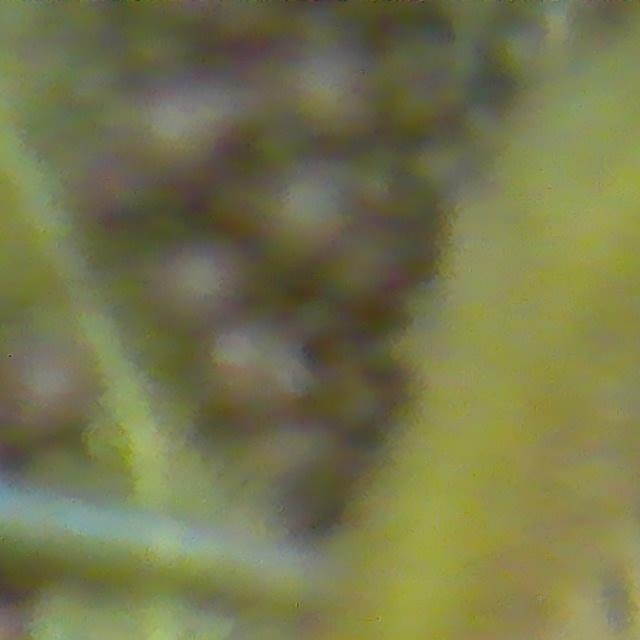SeaGrape: (1, 353, 93, 439), (144, 240, 236, 326), (125, 90, 217, 176), (246, 174, 338, 259)
